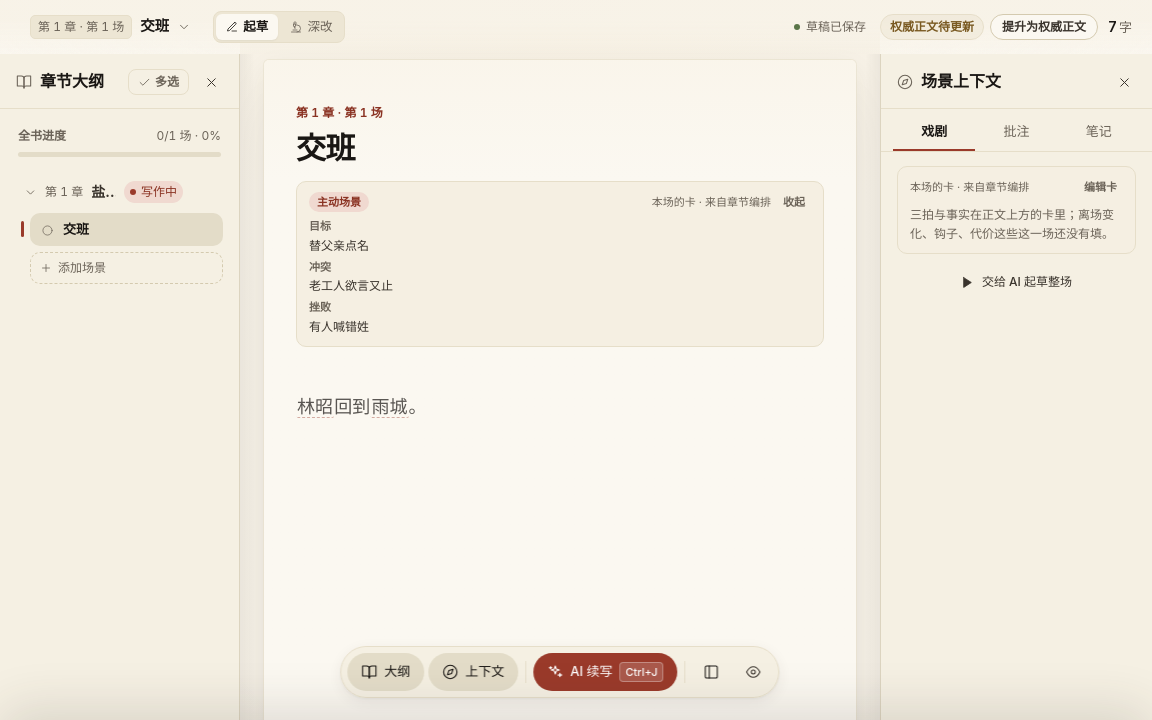
Test case: 写作台 · @ 唤档案 › 没打开过「资料」也有档案：写作台自己拉资料库，正文里的档案名标出来，悬停卡认得它
expect the field with class "wr-editor" shows "林昭回到雨城": met, box x1=296 y1=397 x2=427 y2=418
Hover over the text box with class "wr-entity" showing "林昭" at (315, 408), box x1=296 y1=397 x2=334 y2=418
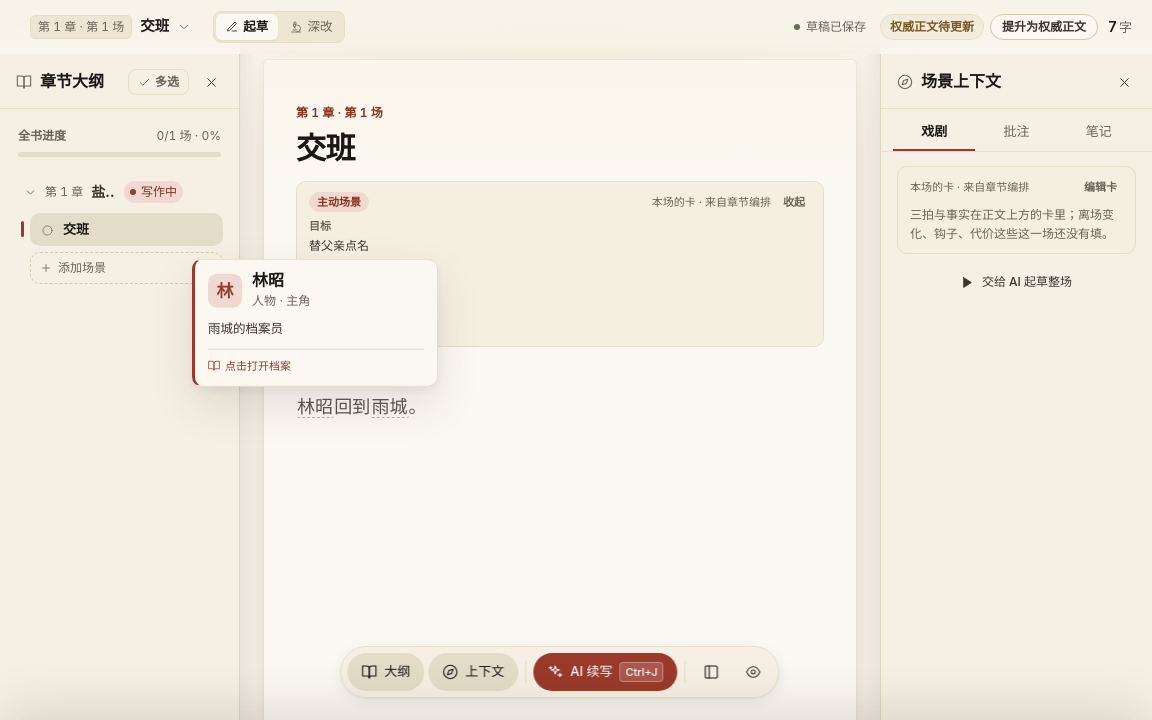
expect the element with class "wr-entpop" shows "雨城的档案员": met, box x1=208 y1=321 x2=283 y2=336
expect the text with class "wr-entpop-kind" shows "人物": met, box x1=252 y1=293 x2=276 y2=308
